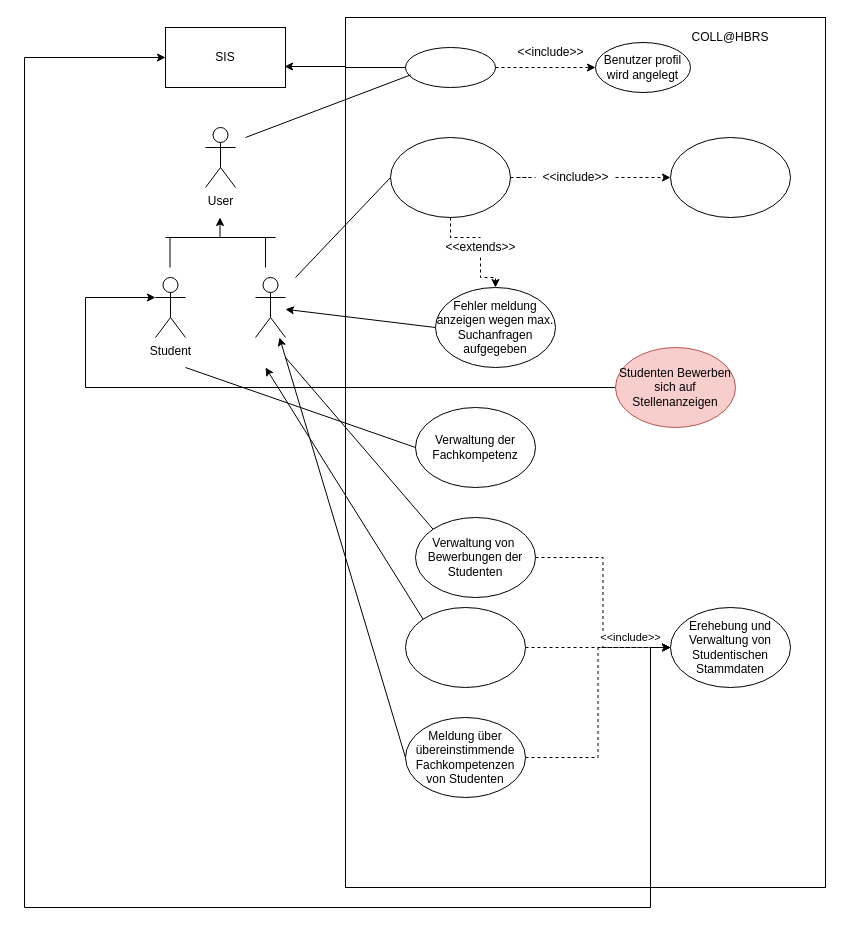
Image size: 843x933. Some labels were removed from this diagram. The box of each missing label's shape, as (x1, y1, x2, y2) in pixels:
Login: (404, 46, 496, 88)
Max. 10 Suchanfragen im Monat: (670, 136, 790, 218)
Meldung über neue Bewerbungen: (404, 606, 526, 688)
Stellenanzeigen aufgeben: (390, 136, 510, 218)
Unternehemen: (254, 276, 286, 338)
